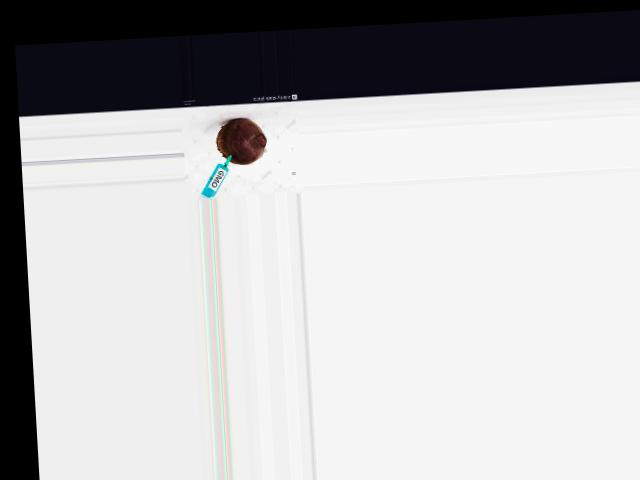beet: (215, 116, 267, 166)
